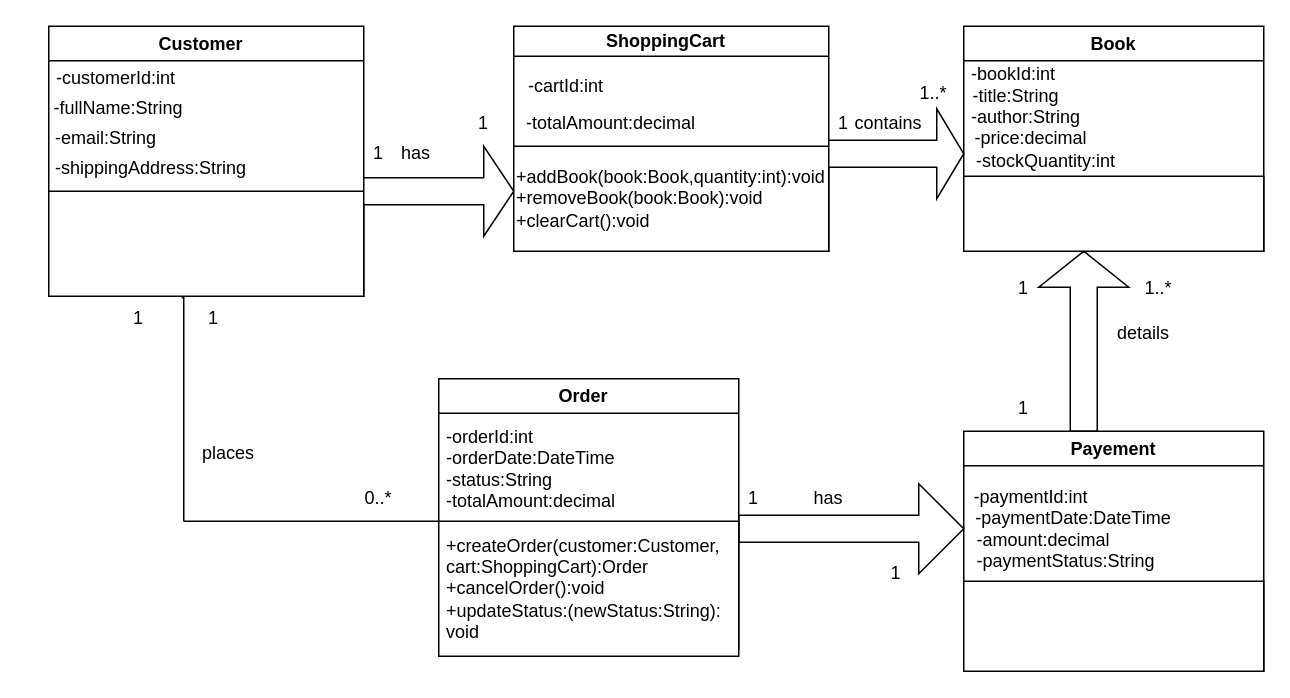
Some shapes in this 1290 by 698 pixel diagram are drawn without their labels. The centre of each missing label's shape, as x and y in pixels:
"+processPayment():Boolean +verifyPayment():Boolean" goes at [1113,625].
"+register():void +login():void +updateProfile():void" goes at [205,243].
"+updateStock(quantity:int):void +getDetails():String" goes at [1113,213].
